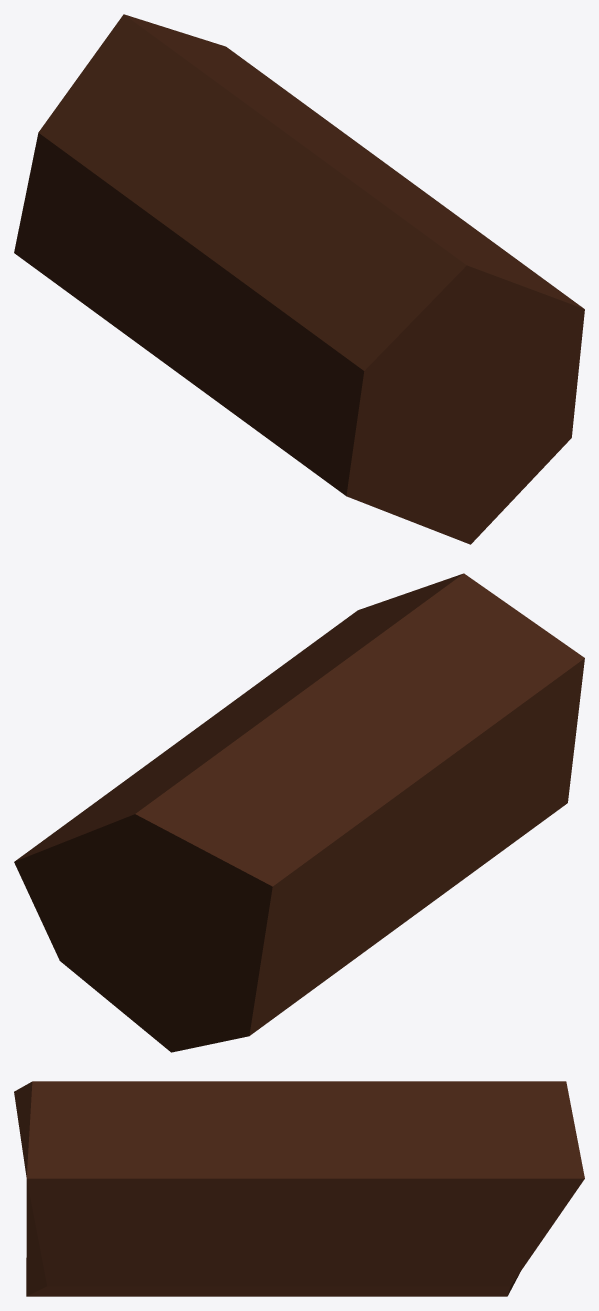
Rendered from item_wood.fbx.
3 views of the same model, one above another, from view 1: azimuth 30°, elevation 25°; view 2: azimuth 150°, elevation 25°; view 3: azimuth 270°, elevation 25° (orthographic). The views are drawn at different scales.
Visible parts, largest first — view 1: Cylinder; view 2: Cylinder; view 3: Cylinder.
Boxes of the visible parts, left/top/right/bottom form: Cylinder: left=14, top=14, right=584, bottom=544; Cylinder: left=14, top=573, right=584, bottom=1052; Cylinder: left=14, top=1081, right=584, bottom=1296.
Size of the model in its own units: 2.39 by 2.76 by 6.65.
